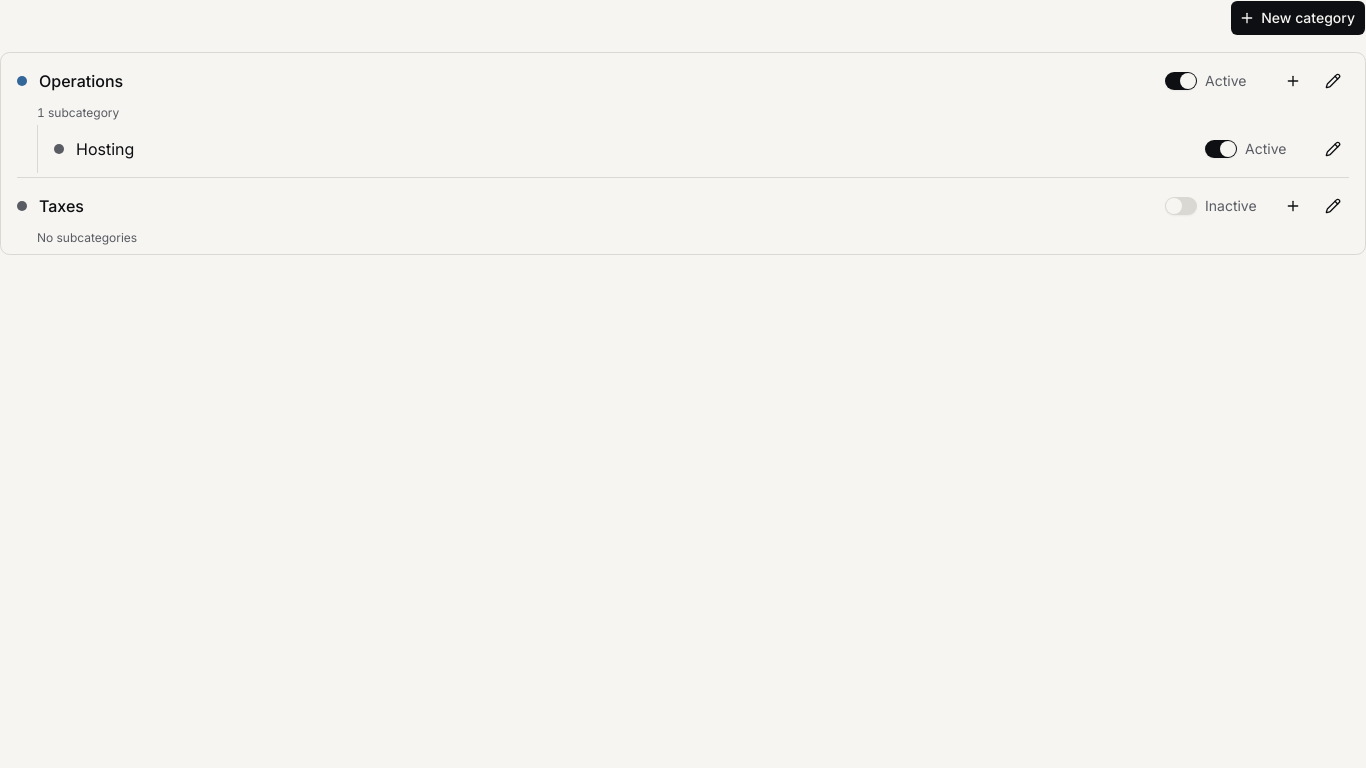
ExpenseCategoriesTree › keeps a category with subcategories as a root when editing
The width and height of the screenshot is (1366, 768).
Click the button named "Edit Operations".
click(1333, 81)  # box [1317,65,1349,97]
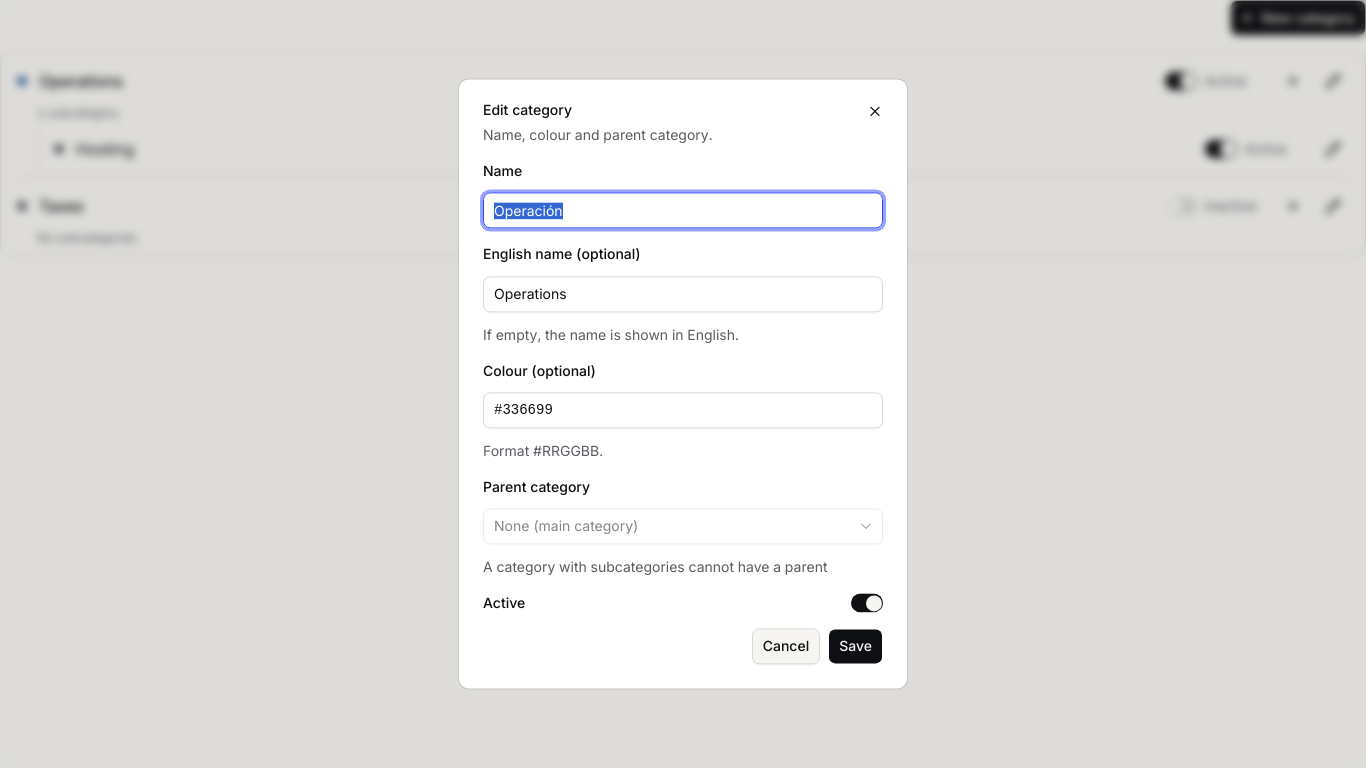
Now the dropdown named "Parent category" is disabled, box [483,508,883,544]
